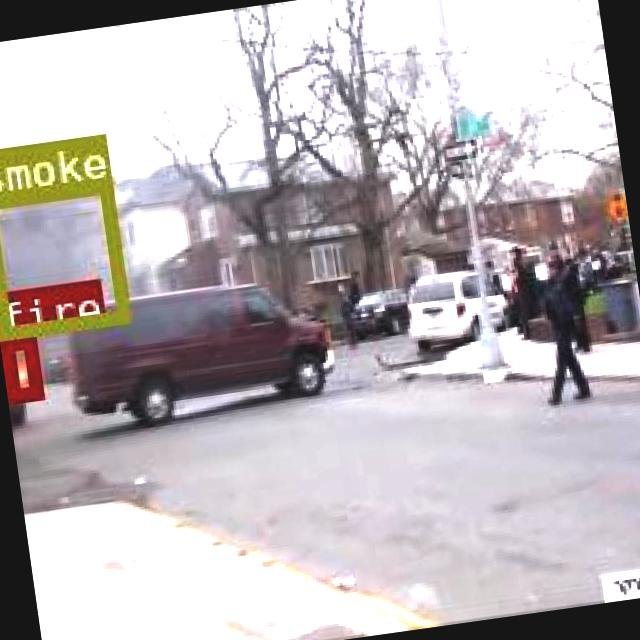fire: (0, 331, 39, 401)
smoke: (0, 178, 127, 338)
